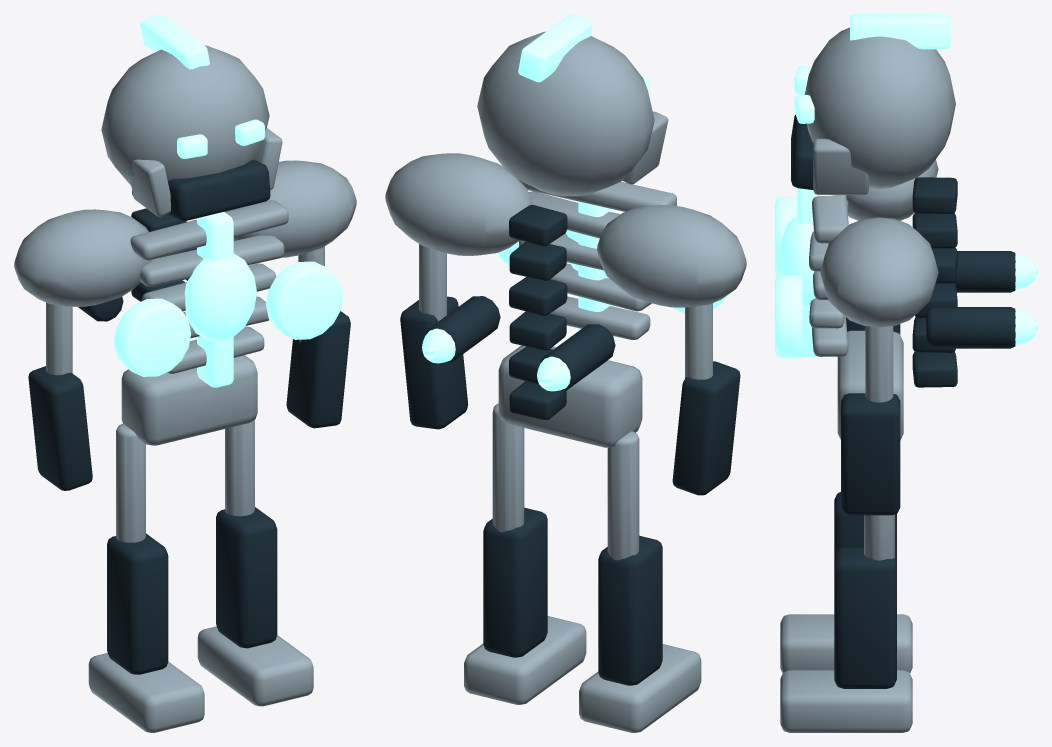
The model's file is Raider_CryoRevenant_Armor.fbx.
3 renders of one model, left to right at view 1: azimuth 30°, elevation 25°; view 2: azimuth 150°, elevation 25°; view 3: azimuth 270°, elevation 25°, orthographic. The views are drawn at different scales.
Visible parts, largest first — view 1: Skull.005, Scapula_L.005, Pelvis.005, ShinBlade_L.005, ShinBlade_R.005, Scapula_R.005, ForearmBlade_L.005, Talon_L.005, Talon_R.005, ForearmBlade_R.005, FrozenHeart.005, EMPCoil_1 (+17 smaller); view 2: Skull.005, Scapula_L.005, Scapula_R.005, ShinBlade_R.005, ShinBlade_L.005, Pelvis.005, ForearmBlade_L.005, Talon_L.005, Talon_R.005, ForearmBlade_R.005, Femur_L.005, Femur_R.005 (+20 smaller); view 3: Skull.005, Scapula_R.005, ShinBlade_R.005, Talon_R.005, ForearmBlade_R.005, Talon_L.005, SoulJet_1.005, CranialSpine.005, Pelvis.005, SoulJet_-1.005, CheekBlade_1.005, EMPCoil_1 (+21 smaller).
Boxes of the visible parts, box(x1,y1,x2,y2) form: Skull.005: box(101, 45, 269, 185); Scapula_L.005: box(14, 209, 151, 306); Pelvis.005: box(121, 355, 257, 445); ShinBlade_L.005: box(107, 533, 168, 674); ShinBlade_R.005: box(216, 507, 277, 648); Scapula_R.005: box(224, 160, 356, 257); ForearmBlade_L.005: box(28, 366, 92, 490); Talon_L.005: box(88, 653, 204, 732); Talon_R.005: box(197, 626, 313, 706); ForearmBlade_R.005: box(286, 311, 350, 428); FrozenHeart.005: box(184, 253, 256, 341); EMPCoil_1: box(266, 261, 342, 339); Skull.005: box(477, 31, 654, 196); Scapula_L.005: box(597, 205, 746, 307); Scapula_R.005: box(385, 153, 533, 255); ShinBlade_R.005: box(483, 507, 547, 657); ShinBlade_L.005: box(598, 535, 662, 685); Pelvis.005: box(498, 345, 642, 447); ForearmBlade_L.005: box(672, 361, 740, 495); Talon_L.005: box(579, 644, 701, 732); Talon_R.005: box(464, 616, 586, 704); ForearmBlade_R.005: box(400, 296, 468, 429); Femur_L.005: box(607, 431, 639, 560); Femur_R.005: box(492, 403, 524, 532); Skull.005: box(804, 27, 955, 188); Scapula_R.005: box(820, 217, 938, 327); ShinBlade_R.005: box(834, 547, 896, 688); Talon_R.005: box(780, 670, 912, 732); ForearmBlade_R.005: box(841, 393, 900, 515); Talon_L.005: box(780, 614, 912, 672); SoulJet_1.005: box(926, 307, 1015, 348); CranialSpine.005: box(850, 14, 950, 49); Pelvis.005: box(837, 330, 903, 440); SoulJet_-1.005: box(955, 251, 1015, 292); CheekBlade_1.005: box(813, 138, 868, 194); EMPCoil_1: box(775, 275, 802, 358).
Bounding box in the file's own units: 231 × 429 × 151.
